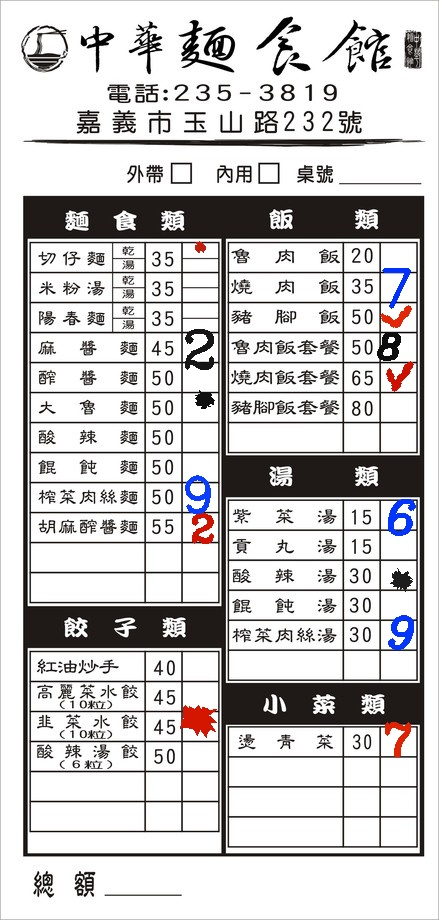marked_circle: (380, 561, 416, 590), (181, 392, 217, 421), (181, 711, 217, 740), (183, 244, 217, 257)
marked_number_2: (181, 512, 217, 541), (182, 332, 218, 361)
marked_number_6: (381, 500, 417, 529)
marked_number_7: (378, 271, 414, 300), (380, 726, 416, 755)
marked_number_8: (378, 332, 414, 361)
marked_number_9: (181, 483, 217, 512), (380, 619, 416, 648)
marked_tick: (380, 302, 416, 331), (381, 360, 417, 389)
